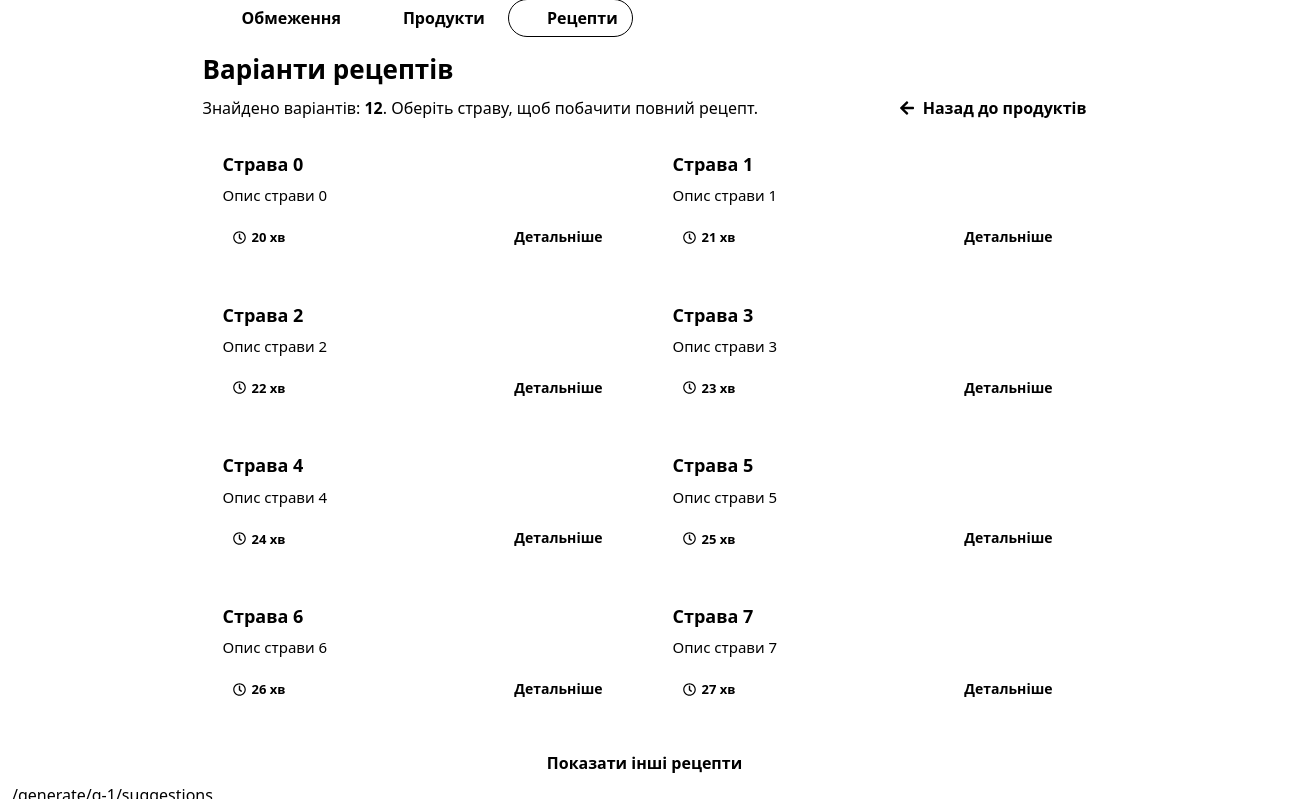
Test: SuggestionsPage: show more › appends next page
The image size is (1292, 799).
Check: the heading "Страва 0" is shown, box [222,152,303,176]
Click the button "Показати інші рецепти". click: (644, 763)
box: [519,742,770,784]
(page scrolled)
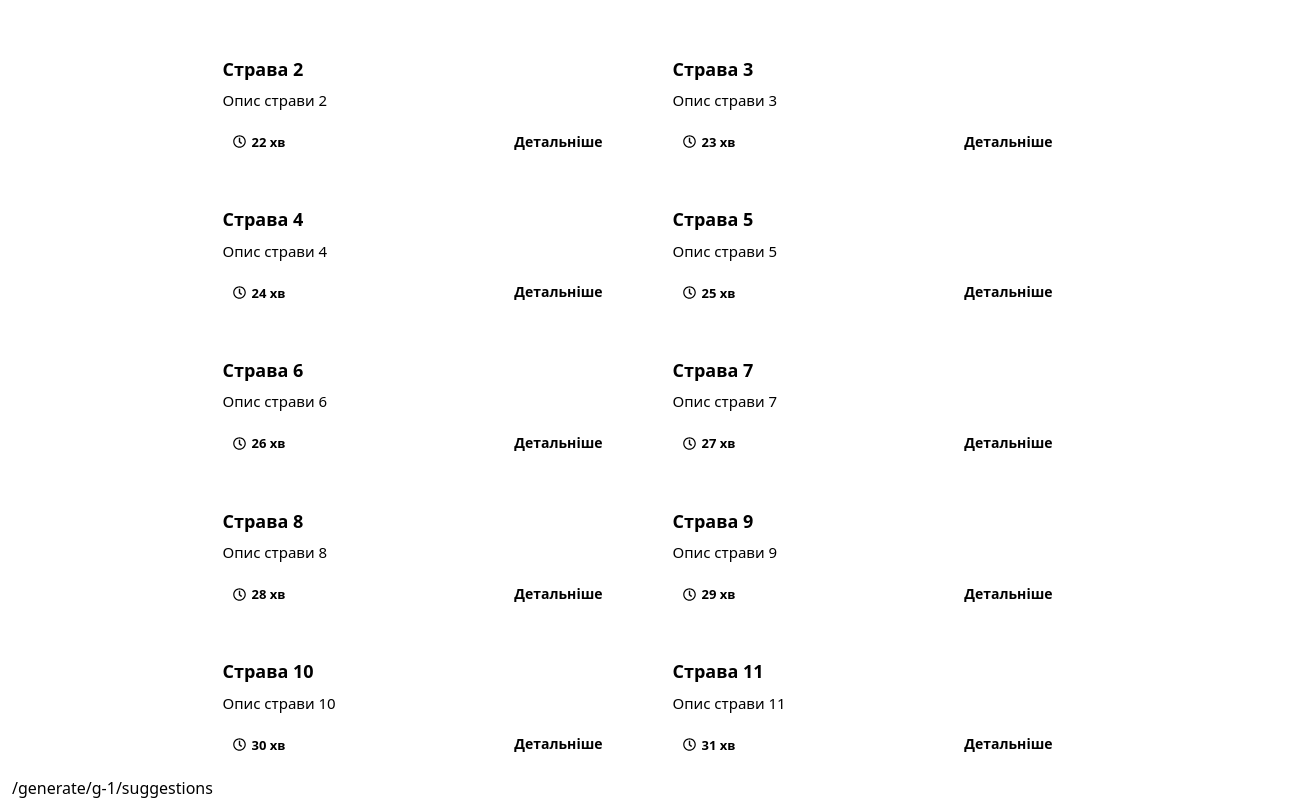
Check: the button "Показати інші рецепти" is gone
